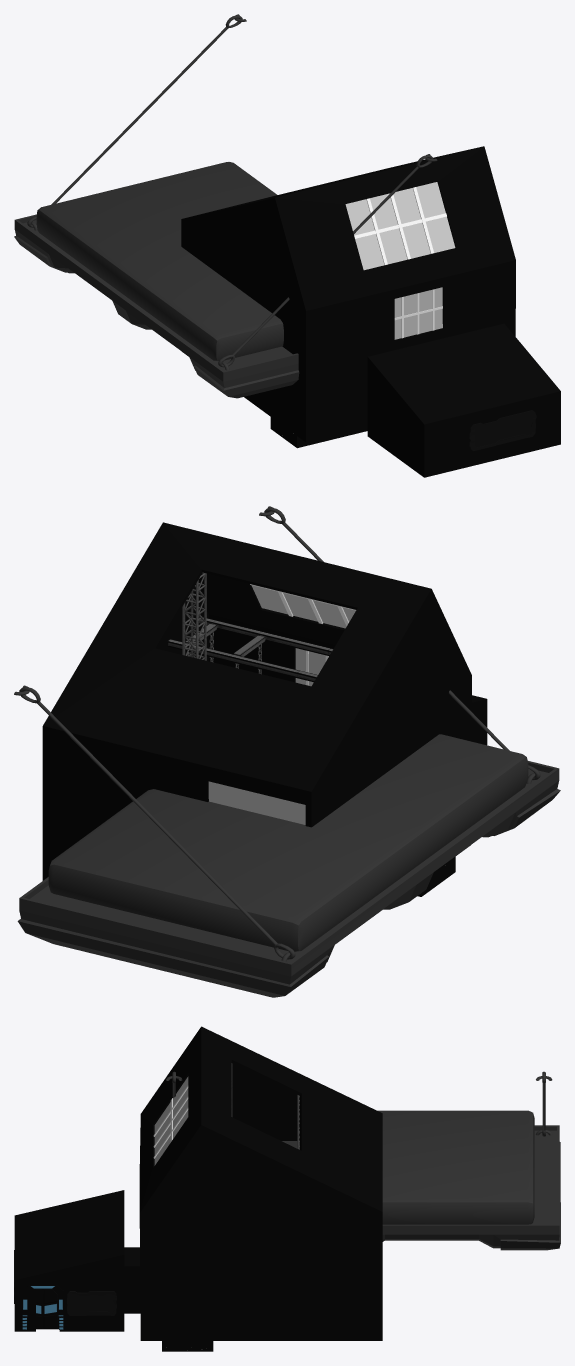
The model's file is zorhaven.fbx.
3 renders of one model, top to bottom at view 1: azimuth 30°, elevation 25°; view 2: azimuth 150°, elevation 25°; view 3: azimuth 270°, elevation 25°, orthographic. The views are drawn at different scales.
Parts seen in each view (by area): view 1: M_Building001, M_Bed001, Object338, Object339, Plane090, Box575; view 2: M_Building001, M_Bed001, Box572, Object340, Object338, M_Scaffolding_016, Object339; view 3: M_Building001, M_Bed001, Object338, Plane092, Object363, Object365, Box576.
Part boxes in pixels (x1=…): M_Building001: x1=181, y1=146, x2=560, y2=477; M_Bed001: x1=14, y1=14, x2=437, y2=398; Object338: x1=345, y1=182, x2=455, y2=270; Object339: x1=394, y1=287, x2=442, y2=339; Plane090: x1=474, y1=413, x2=531, y2=447; Box575: x1=469, y1=410, x2=536, y2=451; M_Building001: x1=42, y1=522, x2=487, y2=943; M_Bed001: x1=14, y1=506, x2=560, y2=997; Box572: x1=167, y1=617, x2=333, y2=682; Object340: x1=208, y1=781, x2=305, y2=824; Object338: x1=251, y1=585, x2=355, y2=628; M_Scaffolding_016: x1=182, y1=572, x2=206, y2=660; Object339: x1=295, y1=648, x2=328, y2=686; M_Building001: x1=14, y1=1026, x2=382, y2=1351; M_Bed001: x1=166, y1=1071, x2=560, y2=1250; Object338: x1=154, y1=1076, x2=188, y2=1165; Plane092: x1=70, y1=1293, x2=113, y2=1313; Object363: x1=22, y1=1285, x2=63, y2=1329; Object365: x1=43, y1=1289, x2=58, y2=1329; Box576: x1=67, y1=1291, x2=116, y2=1315.
Bounding box in the file's own units: 1529 × 1305 × 2619.
